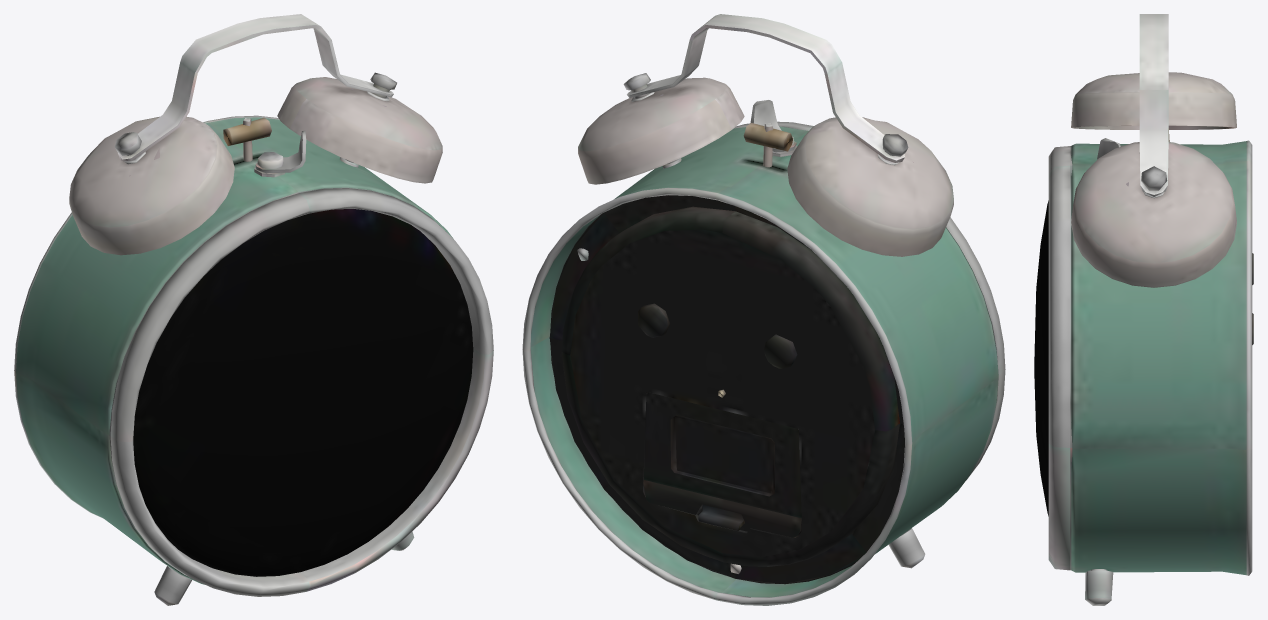
Rendered from ph_alarm_clock_01.glb.
3 views of the same model, side by side, from view 1: azimuth 30°, elevation 25°; view 2: azimuth 150°, elevation 25°; view 3: azimuth 270°, elevation 25° (orthographic). The views are drawn at different scales.
Parts seen in each view (by area): view 1: alarm_clock_01; view 2: alarm_clock_01; view 3: alarm_clock_01.
Boxes of the visible parts, left/top/right/bottom form: alarm_clock_01: left=14, top=14, right=493, bottom=605; alarm_clock_01: left=522, top=14, right=1005, bottom=605; alarm_clock_01: left=1034, top=14, right=1253, bottom=605.
Size of the model in its own units: 0.1317 by 0.1741 by 0.0662.
Materials: 2 (2 with a texture image).
